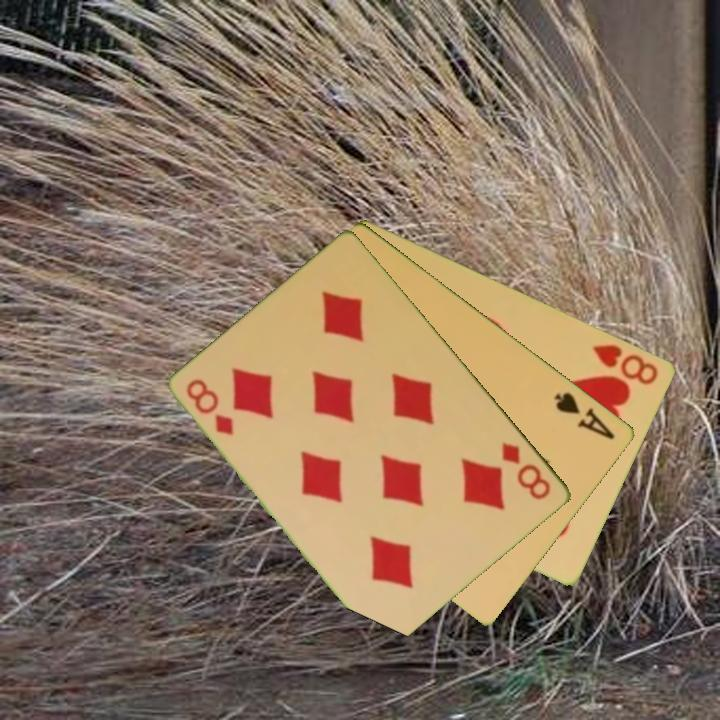8d: (498, 438, 555, 503), (183, 375, 238, 439)
8h: (589, 340, 662, 388)
As: (551, 388, 619, 443)
